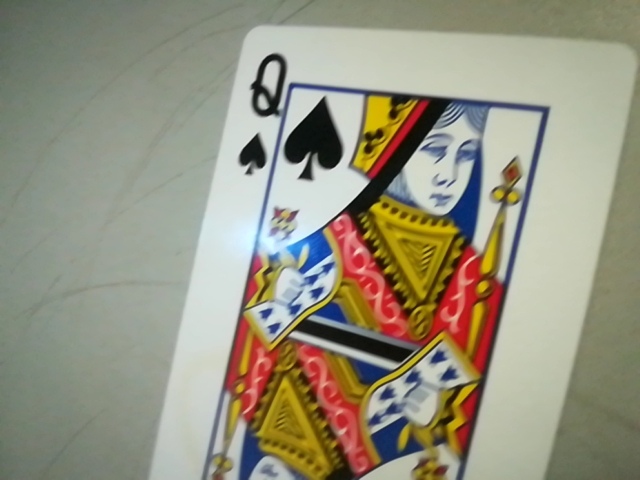ht q: (233, 46, 289, 185)
